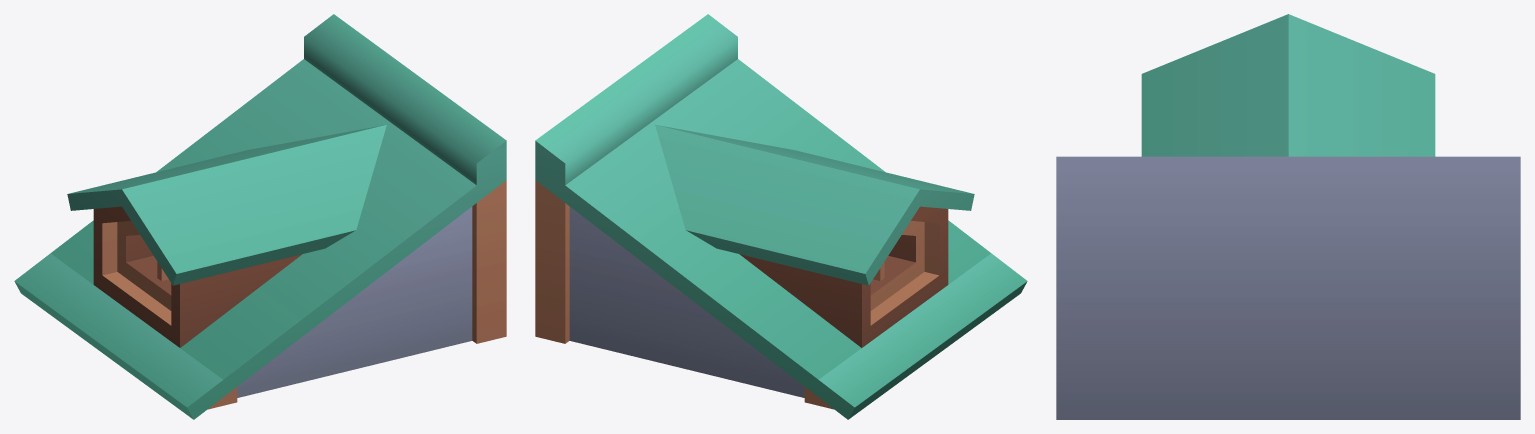
Rendered from kenney-fantasy-town-roof-window.glb.
The picture shows the model from 3 angles, left to right: view 1: azimuth 30°, elevation 25°; view 2: azimuth 150°, elevation 25°; view 3: azimuth 270°, elevation 25°; orthographic projection. The views are drawn at different scales.
Visible parts, largest first — view 1: roof-window; view 2: roof-window; view 3: roof-window.
Part boxes in pixels (<box>): roof-window: <box>14,14,506,419</box>; roof-window: <box>535,14,1027,419</box>; roof-window: <box>1056,14,1520,419</box>.
Bounding box in the file's own units: 1.07 × 0.6483 × 1.
Materials: 1 (1 with a texture image).
